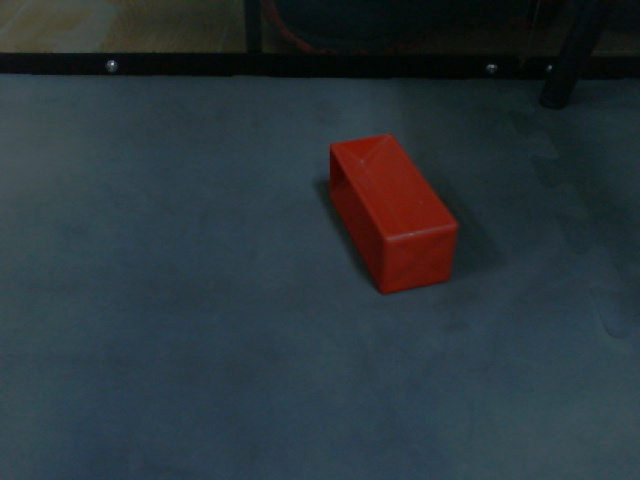RedSample: (325, 131, 461, 299)
